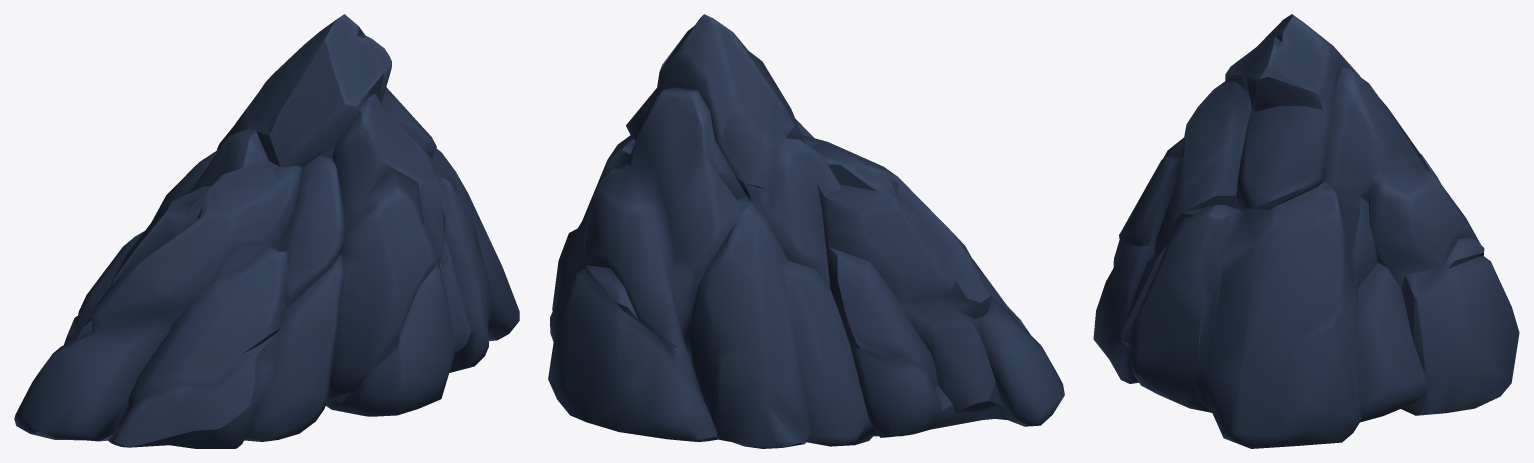
Rendered from PlatformRock_B.fbx.
3 views of the same model, side by side, from view 1: azimuth 30°, elevation 25°; view 2: azimuth 150°, elevation 25°; view 3: azimuth 270°, elevation 25° (orthographic). The views are drawn at different scales.
Parts seen in each view (by area): view 1: SM_PlatformRock_B; view 2: SM_PlatformRock_B; view 3: SM_PlatformRock_B.
Boxes of the visible parts, x1,y1,x2,y2 form: SM_PlatformRock_B: (14, 14, 519, 448); SM_PlatformRock_B: (548, 14, 1064, 448); SM_PlatformRock_B: (1093, 14, 1519, 448).
Bounding box in the file's own units: 555 × 372 × 391.
